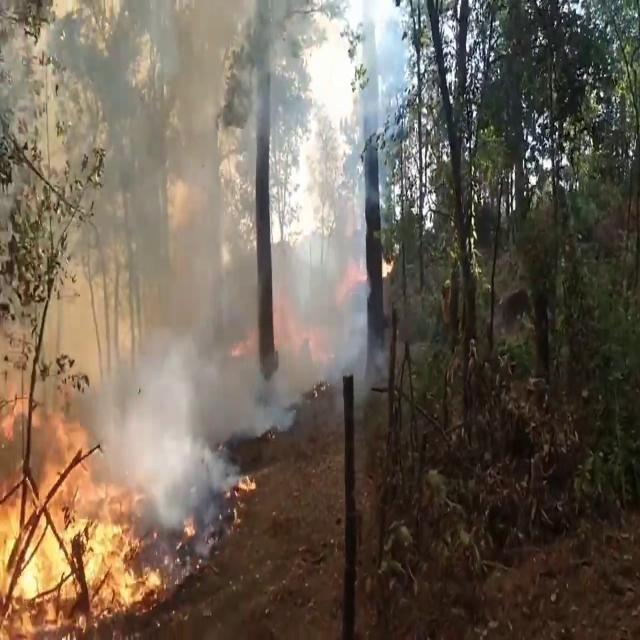Fire: (0, 457, 165, 636)
Smoke: (26, 0, 380, 518)
